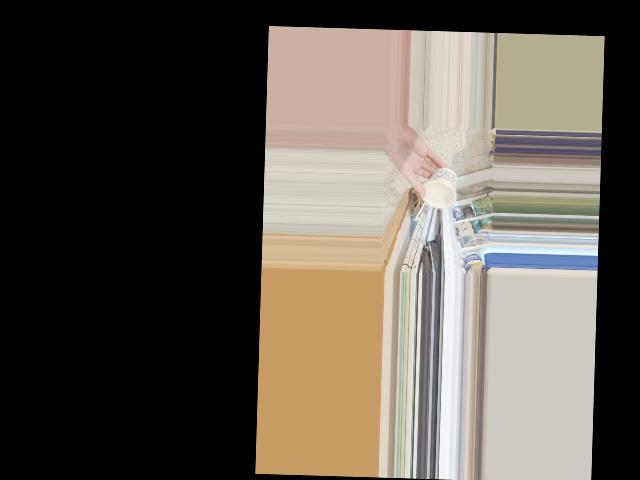cotage: (420, 168, 455, 203)
